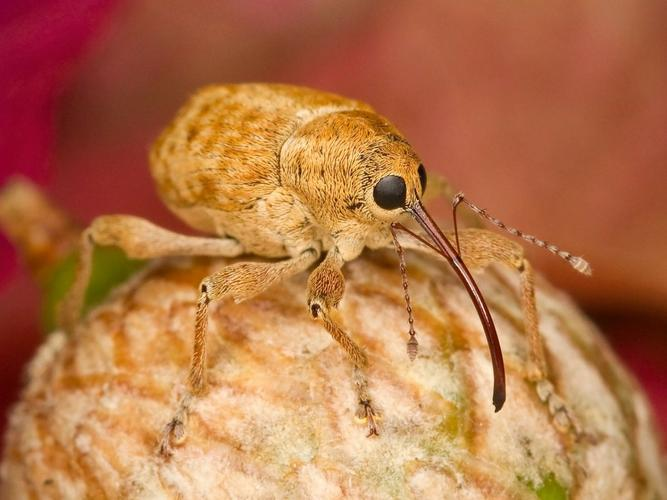Curculionidae: (55, 78, 593, 489)
